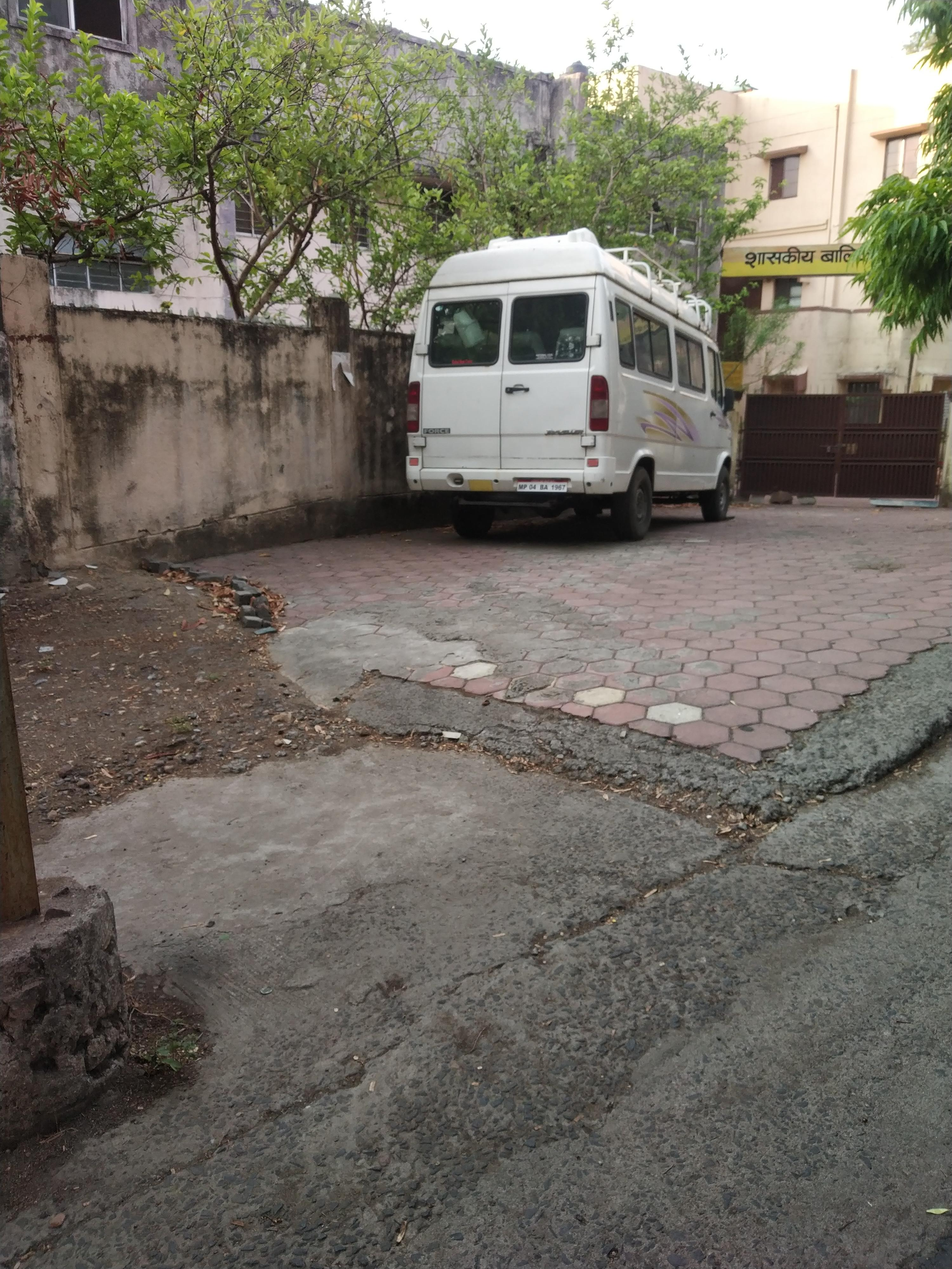non-ambulance: (369, 199, 796, 558)
